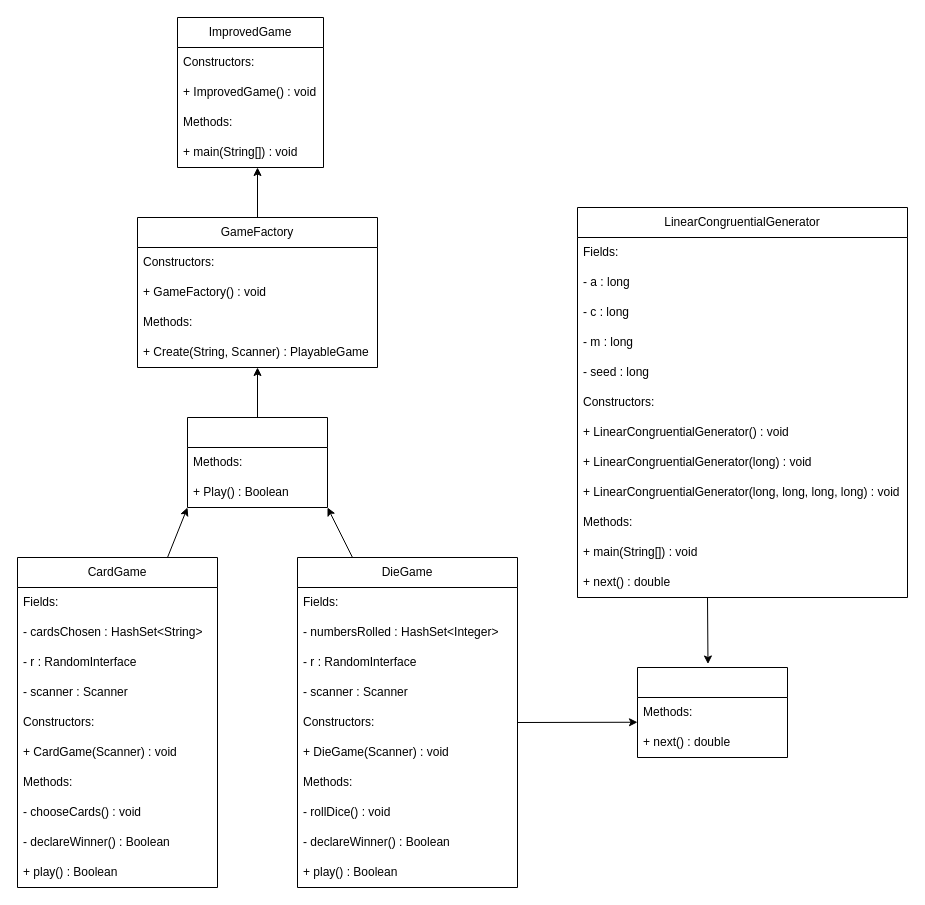
Image size: 925x905. Some labels were removed from this diagram. Here are the shapes that lost their labels. From the top down, the box of each, then its label:
(186, 416, 328, 508): Interface: PlayableGame
(636, 666, 788, 758): Interface: RandomInterface
